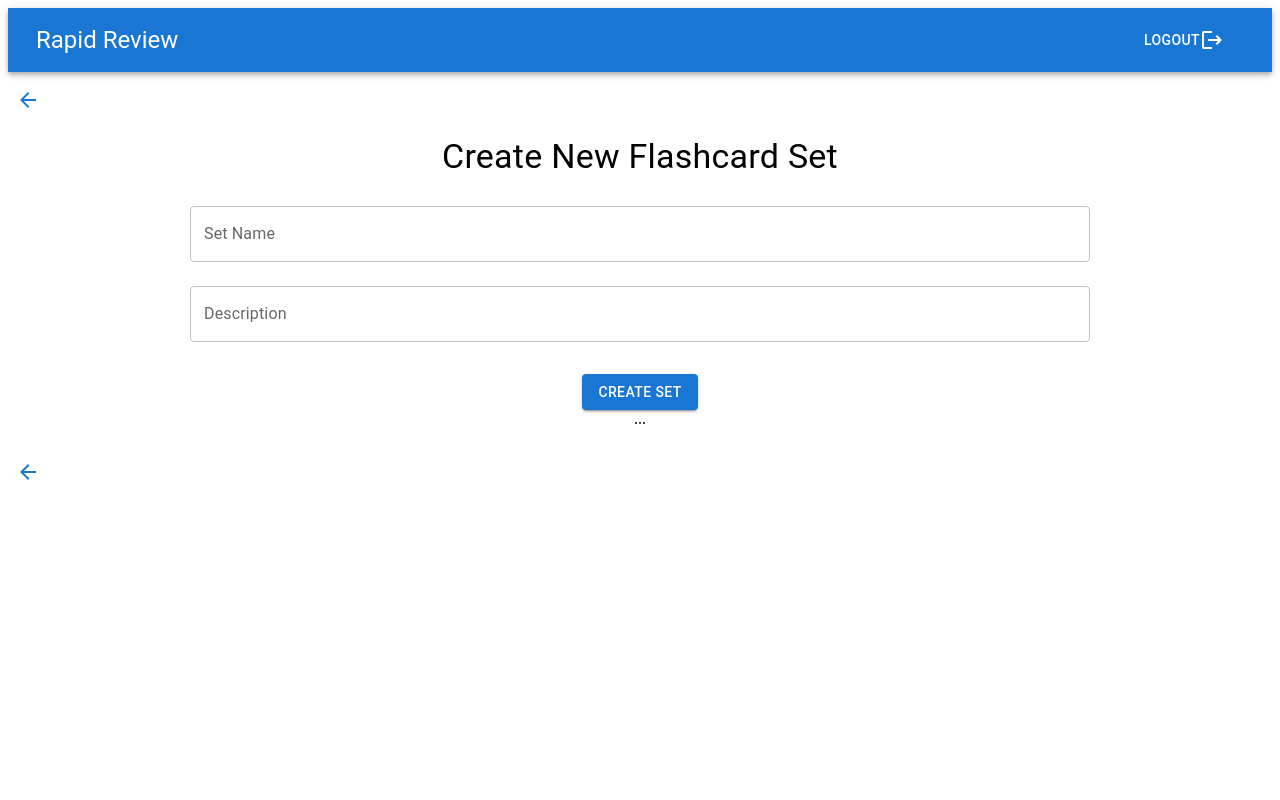
success create set
Expected: the heading "Create New Flashcard Set" is shown, top-left (442, 136), bottom-right (838, 178)
Type "cells unit 3" into the text box labelled "Set Name" at x=640, y=234, box top-left (204, 222), bottom-right (1076, 245)
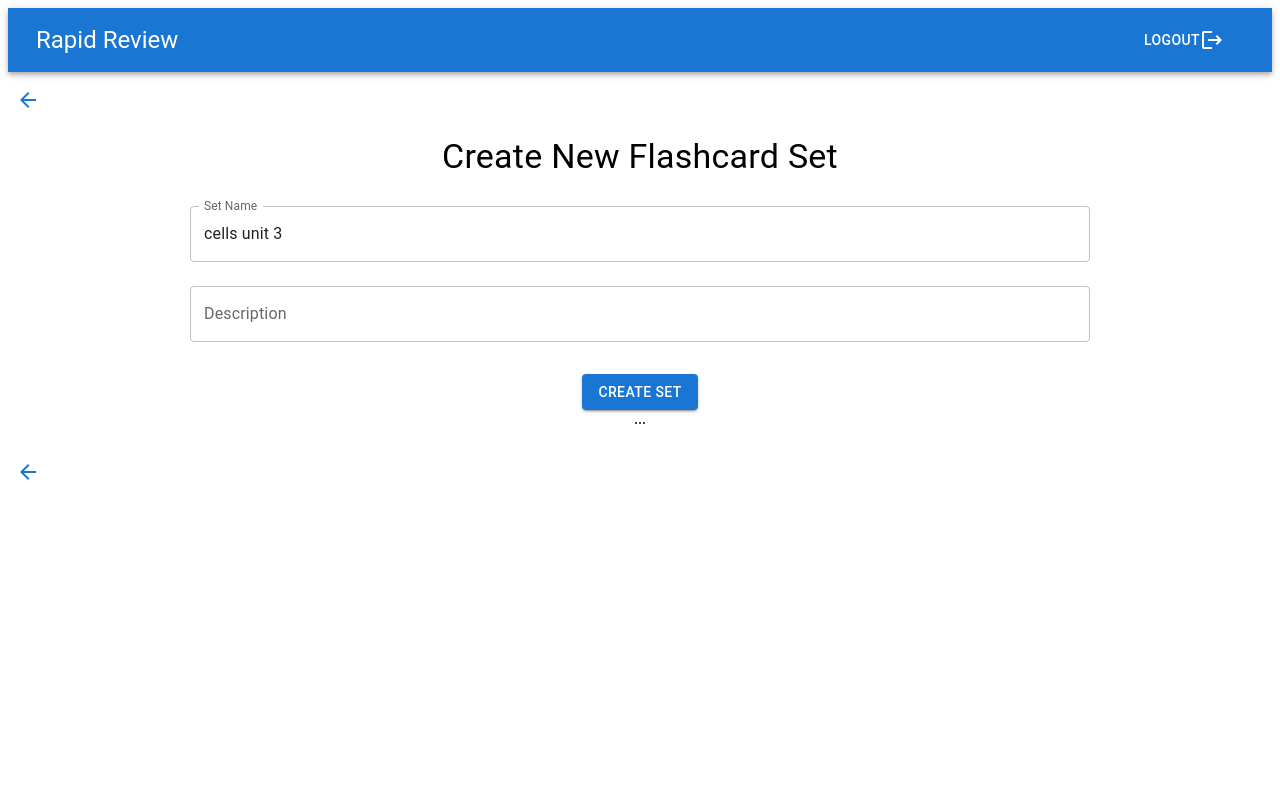
Type "i'm learning about cells" into the text box labelled "Description" at x=640, y=314, box top-left (204, 302), bottom-right (1076, 325)
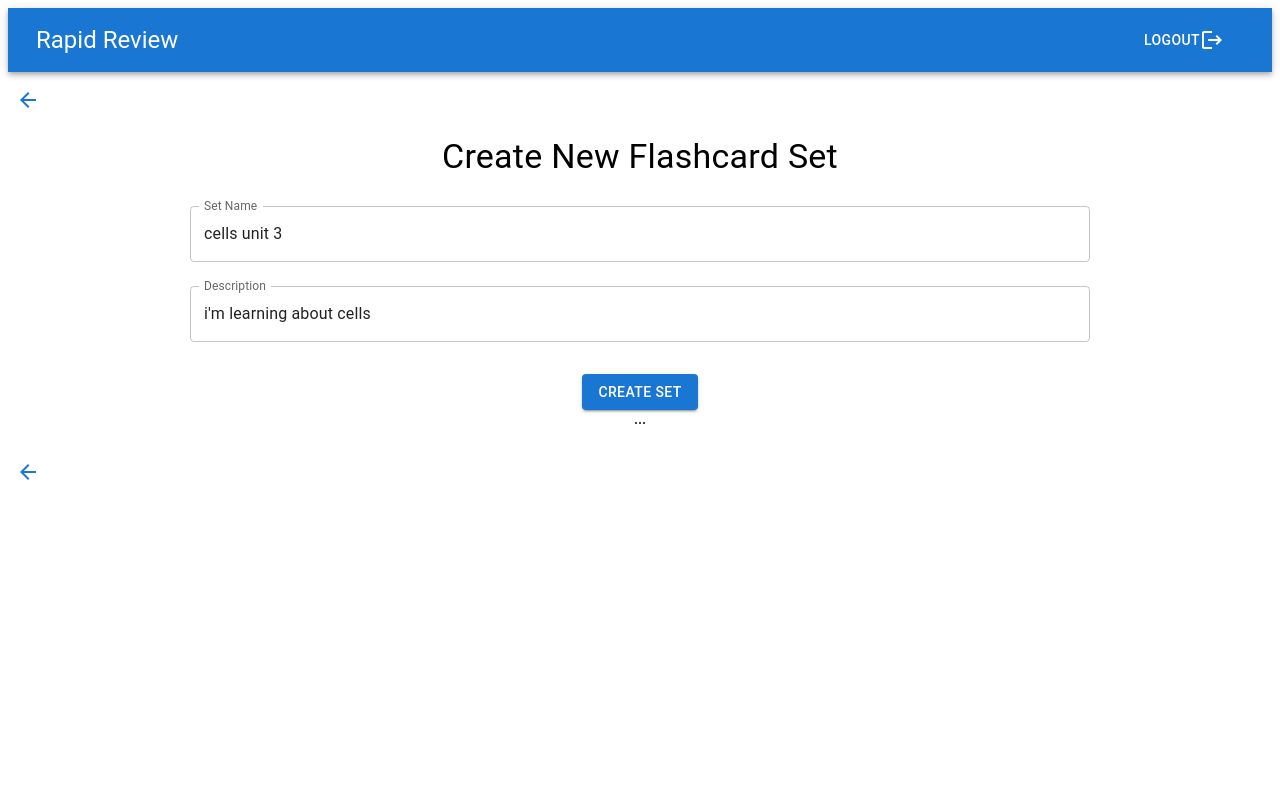
Click the button "Create Set" at x=640, y=392, box top-left (582, 374), bottom-right (698, 410)
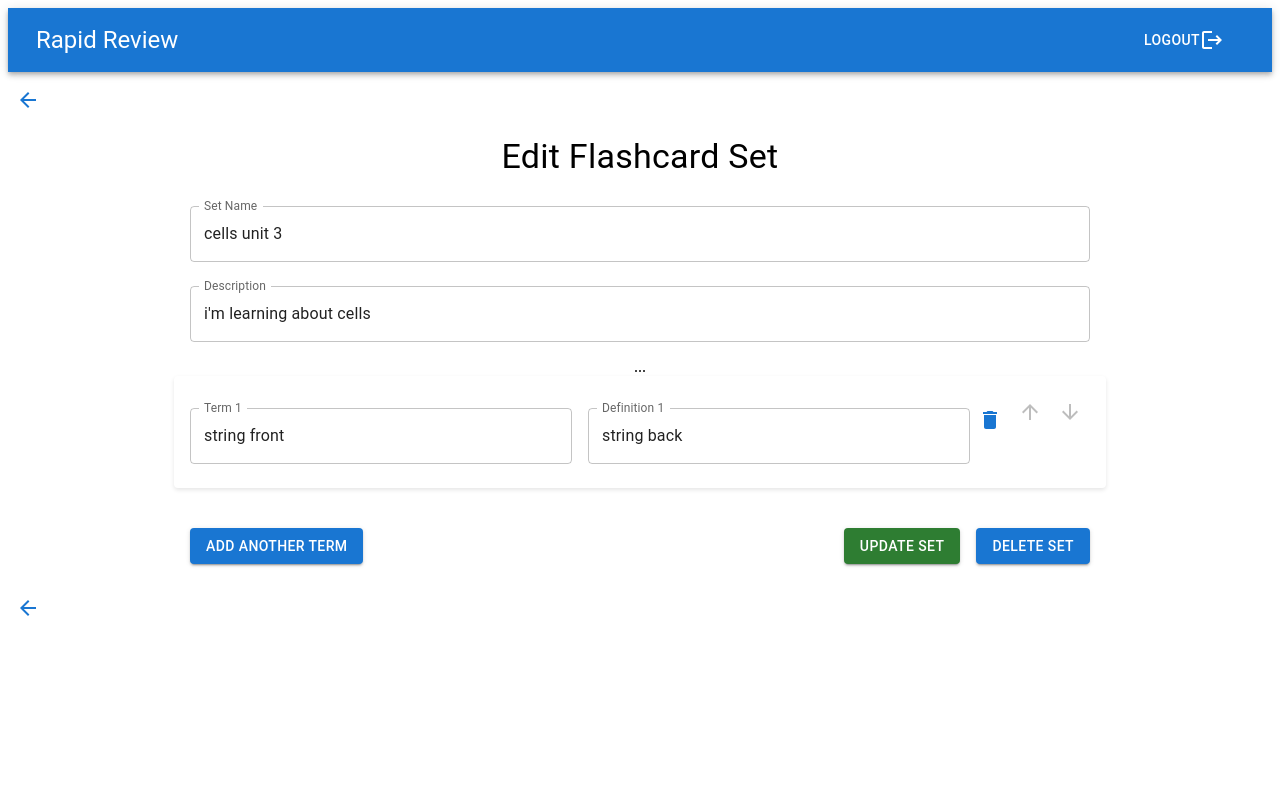
Expected: the heading "Edit Flashcard Set" is shown, top-left (502, 136), bottom-right (778, 178)
